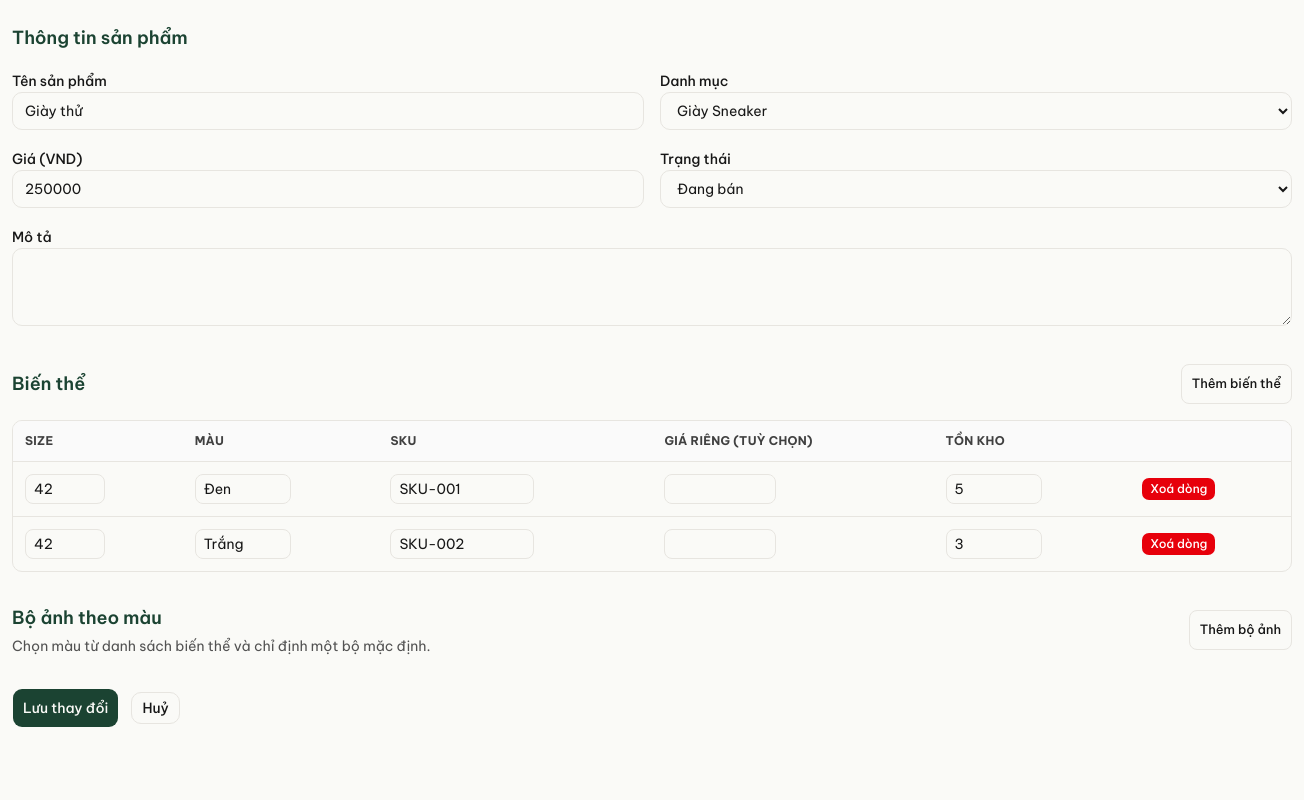
Test: ProductForm — biến thể inline › thêm bộ ảnh từ các màu biến thể mà không cho trùng màu
The width and height of the screenshot is (1304, 800).
Click the button "Thêm bộ ảnh" at [1240, 630], box [1189,610,1292,650]
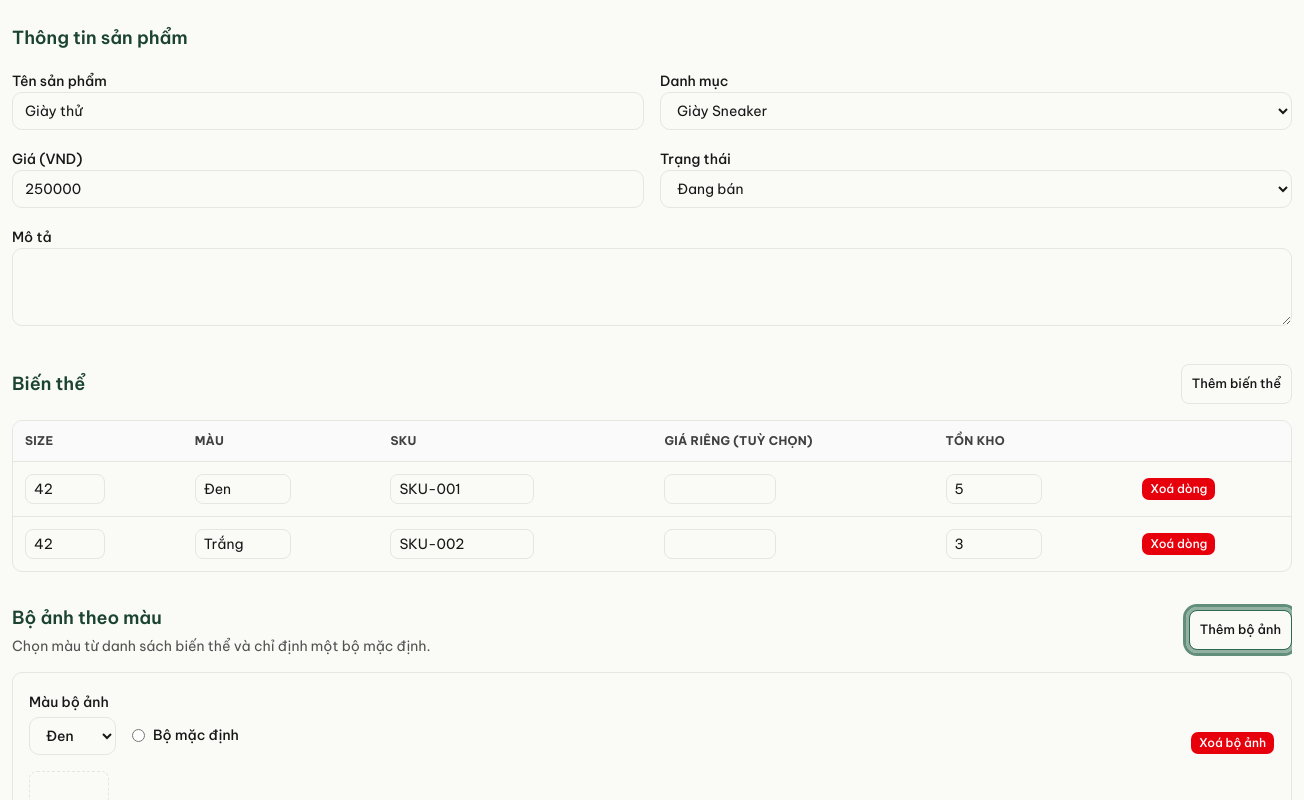
Click the button "Thêm bộ ảnh" at [1240, 630], box [1189,610,1292,650]
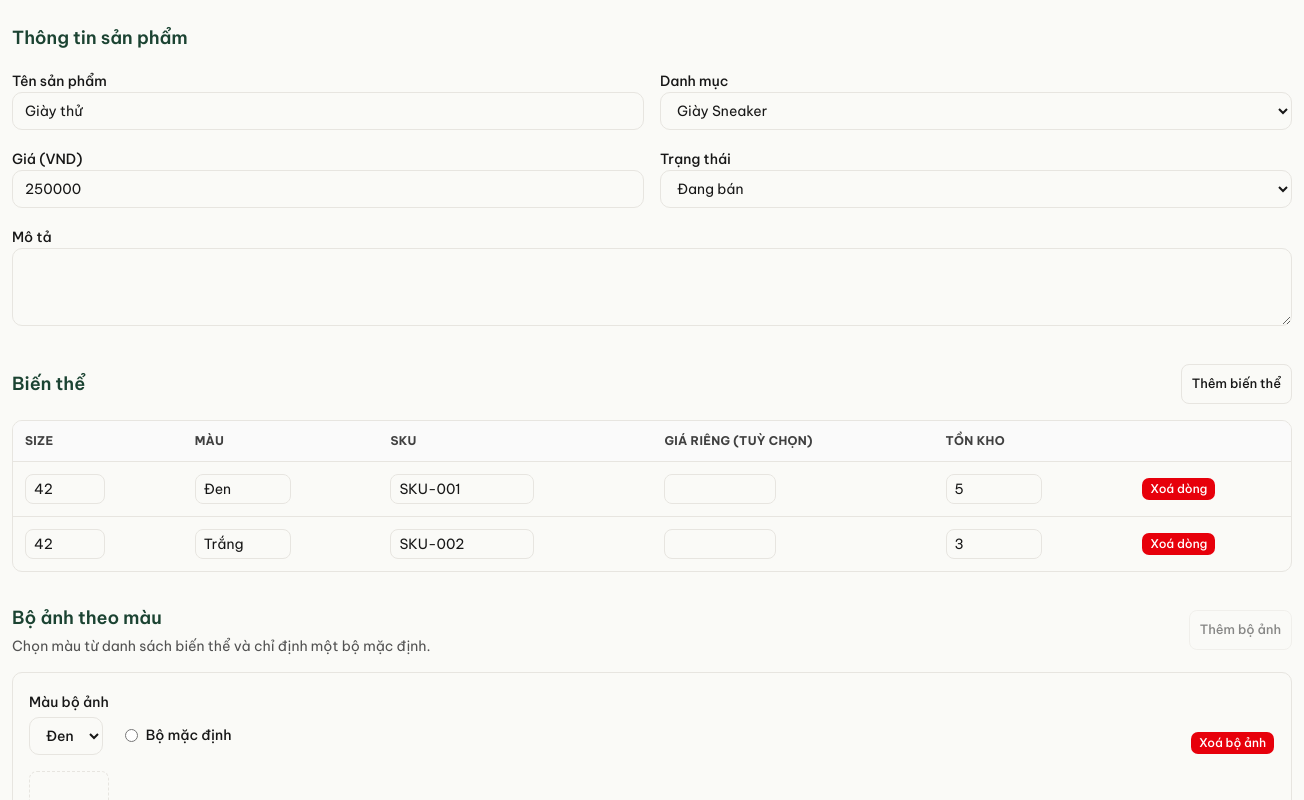
Expected: the number of elements with test id "image-set-panel" is 2
Expected: the button "Thêm bộ ảnh" is disabled, [1189,610,1292,650]
